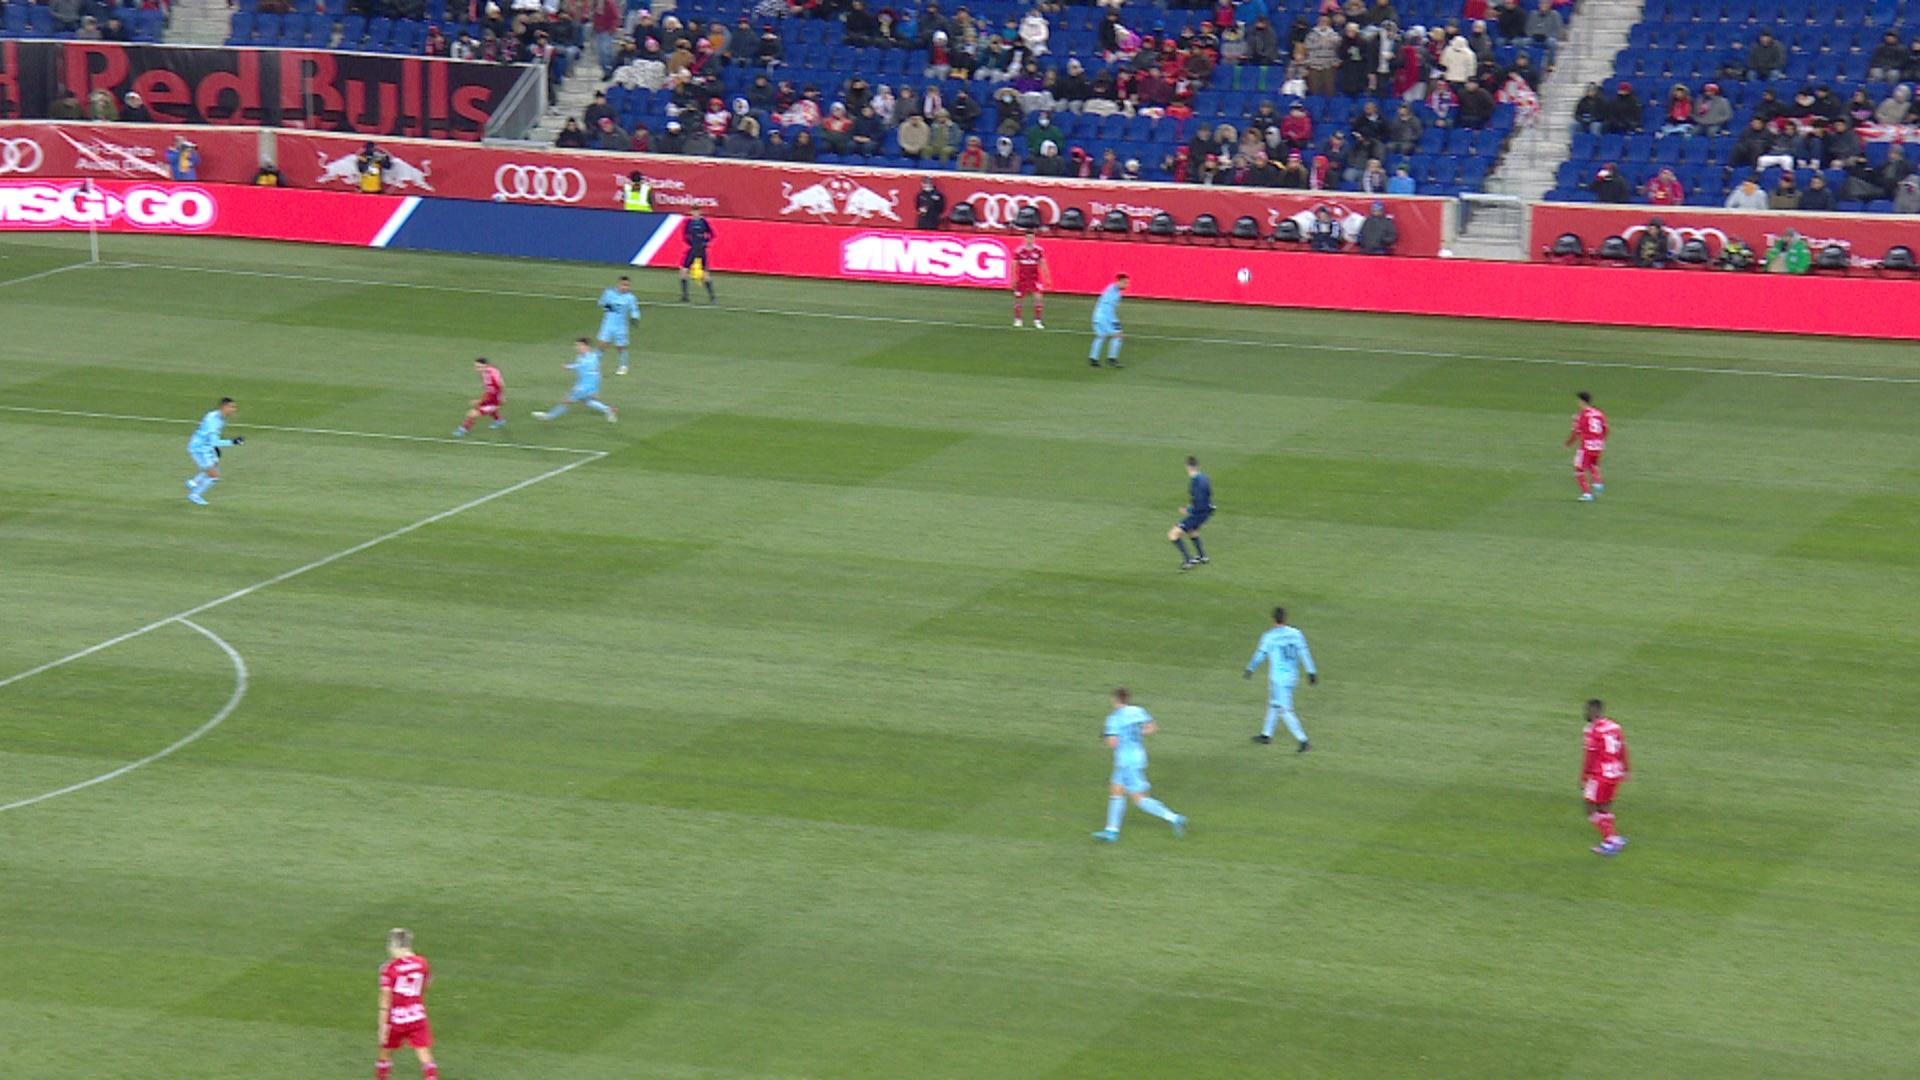football: (1239, 270, 1250, 282)
